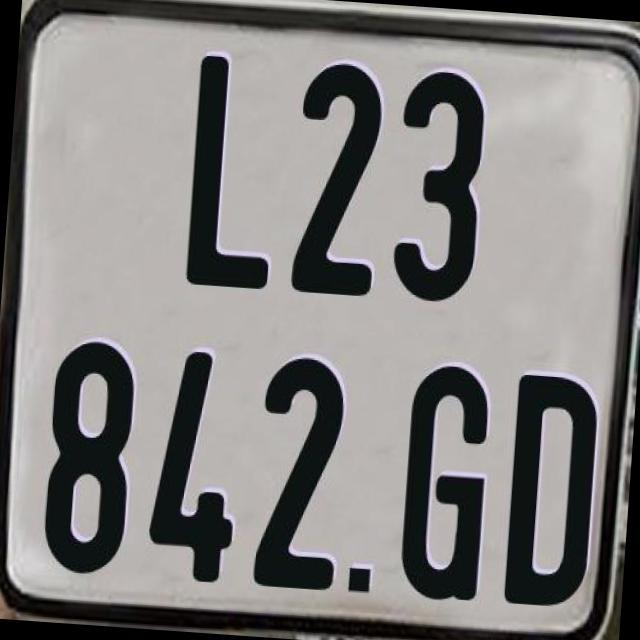2: (290, 56, 394, 300), (247, 352, 350, 596)
3: (386, 69, 488, 304)
4: (144, 346, 248, 582)
8: (36, 334, 132, 570)
D: (503, 373, 603, 618)
G: (398, 359, 498, 598)
L: (182, 53, 286, 294)
